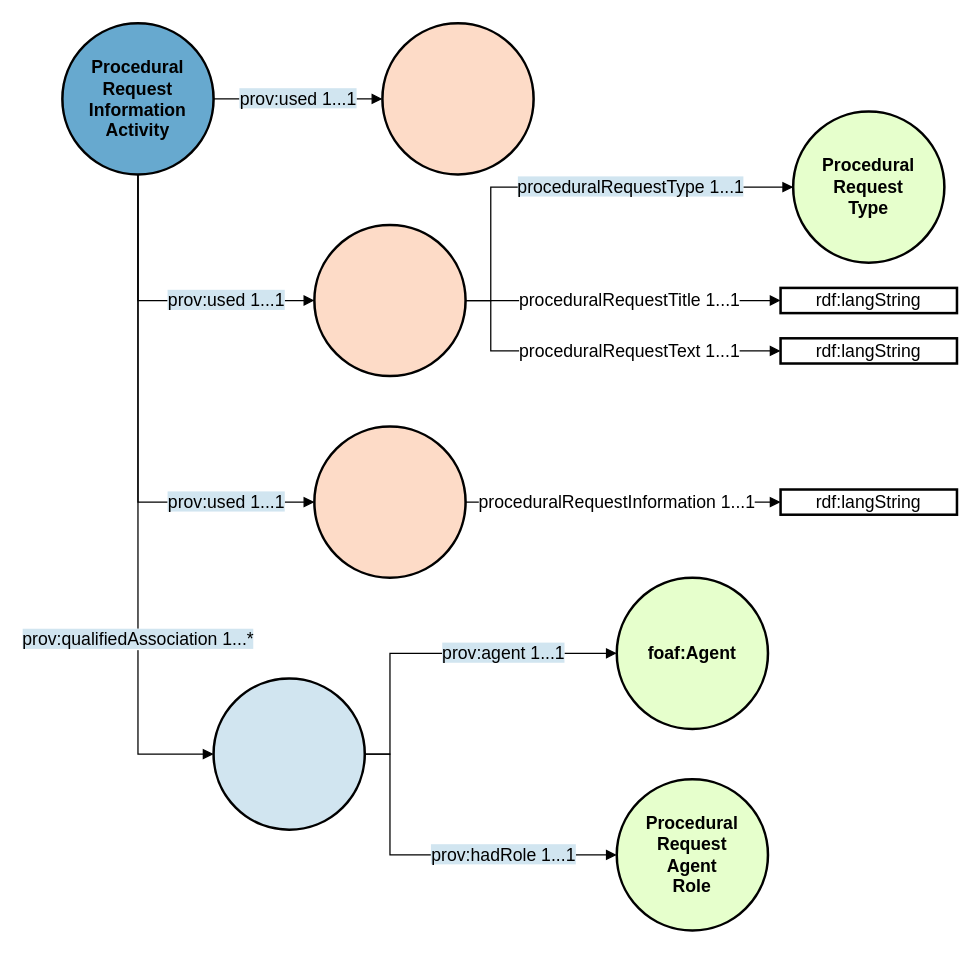
Some shapes in this 979 by 953 pixel diagram are drawn without their labels. The shapes that lost their labels are listed below. From the top down, each one's centre as x and y in pixels, then its label:
At (457,98): "Parliamentary Affair Identifier Entity".
At (389,300): "Procedural Request Entity".
At (389,501): "Procedural Request Information Entity".
At (288,753): "prov: Association".
